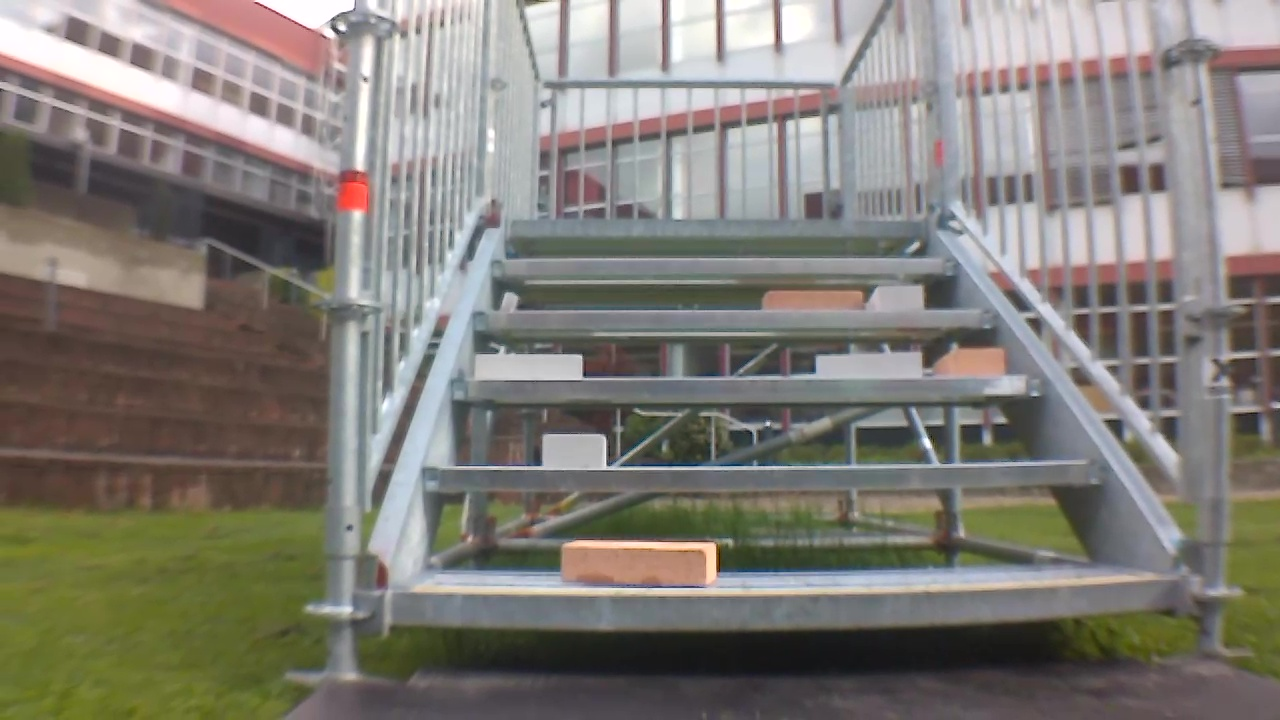brick: (560, 542, 715, 585), (475, 353, 581, 378), (818, 354, 921, 378), (541, 435, 605, 466), (764, 289, 860, 309), (937, 348, 1004, 375), (870, 286, 924, 309)
edge: (393, 580, 1183, 629), (425, 459, 1106, 490), (449, 375, 1046, 401), (473, 309, 993, 328), (505, 218, 927, 238), (494, 258, 954, 274)
stairs: (318, 5, 1236, 684)
steps: (391, 215, 1199, 636)
